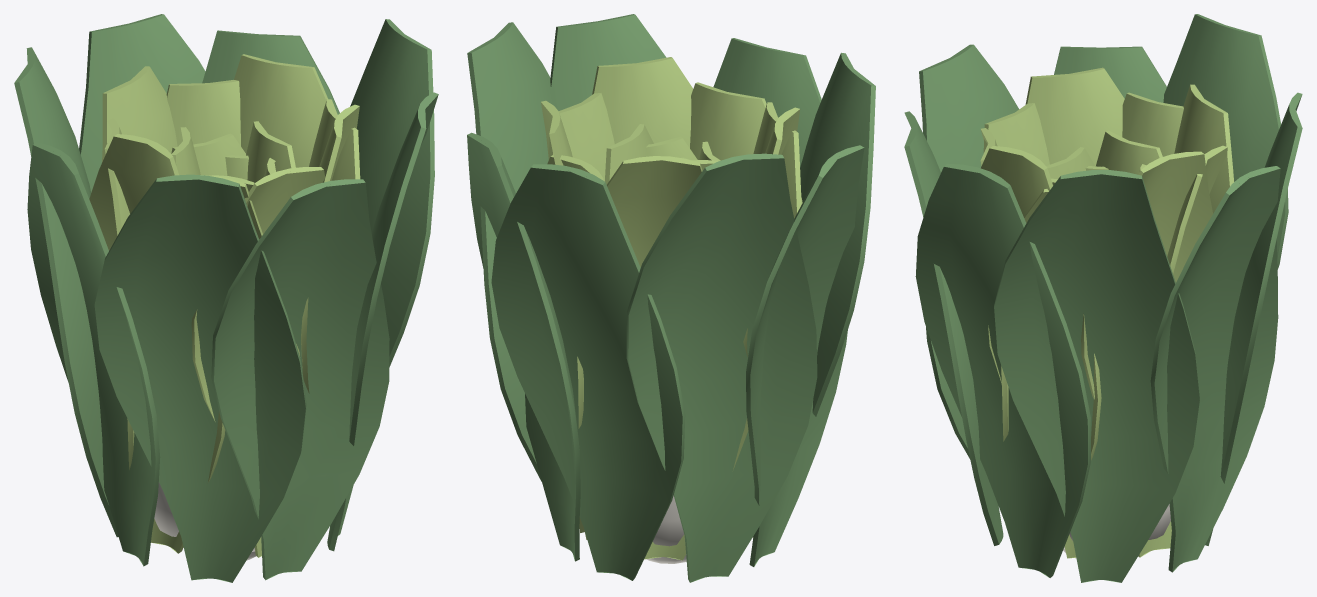
The model's file is fresh-produce-and-groceries-romaine-lettuce-0c10299b__24367.glb.
The picture shows the model from 3 angles, left to right: view 1: azimuth 30°, elevation 25°; view 2: azimuth 150°, elevation 25°; view 3: azimuth 270°, elevation 25°; orthographic projection. The views are drawn at different scales.
Visible parts, largest first — view 1: romaine-lettuce; view 2: romaine-lettuce; view 3: romaine-lettuce.
Part boxes in pixels (box(x1,y1,x2,y2)): romaine-lettuce: box(14, 14, 438, 582); romaine-lettuce: box(467, 14, 875, 582); romaine-lettuce: box(904, 14, 1302, 582).
Bounding box in the file's own units: 0.1921 × 0.2441 × 0.1902.
